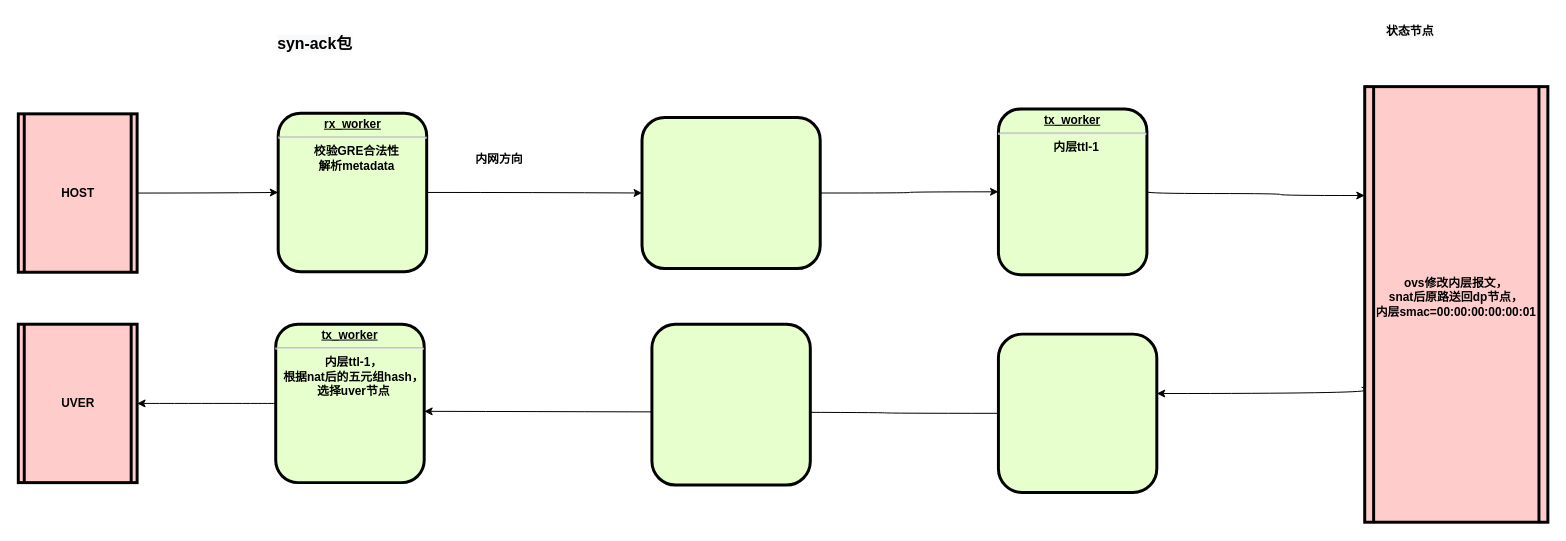
This 1566x541 diagram has some shape labels left out. The shapes that lost their labels are listed below. From the top down, each one's box as (x1, y1, x2, y2) in pixels, then its label:
(640, 116, 821, 269): ct_worker tcp_flags==syn||fin||rst 生成upcall报文 内层smac=00:00:00:00:00:01
(650, 322, 811, 486): meter_worker 出向EIP限速
(996, 332, 1158, 494): rx_worker 内层源mac为upcall报文， 已经nat过，送到出向限速
